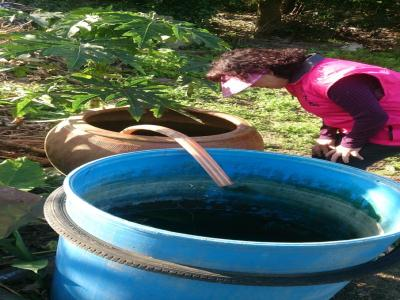bowl: (43, 144, 395, 298), (43, 101, 264, 176)
bucket: (41, 142, 393, 296)
